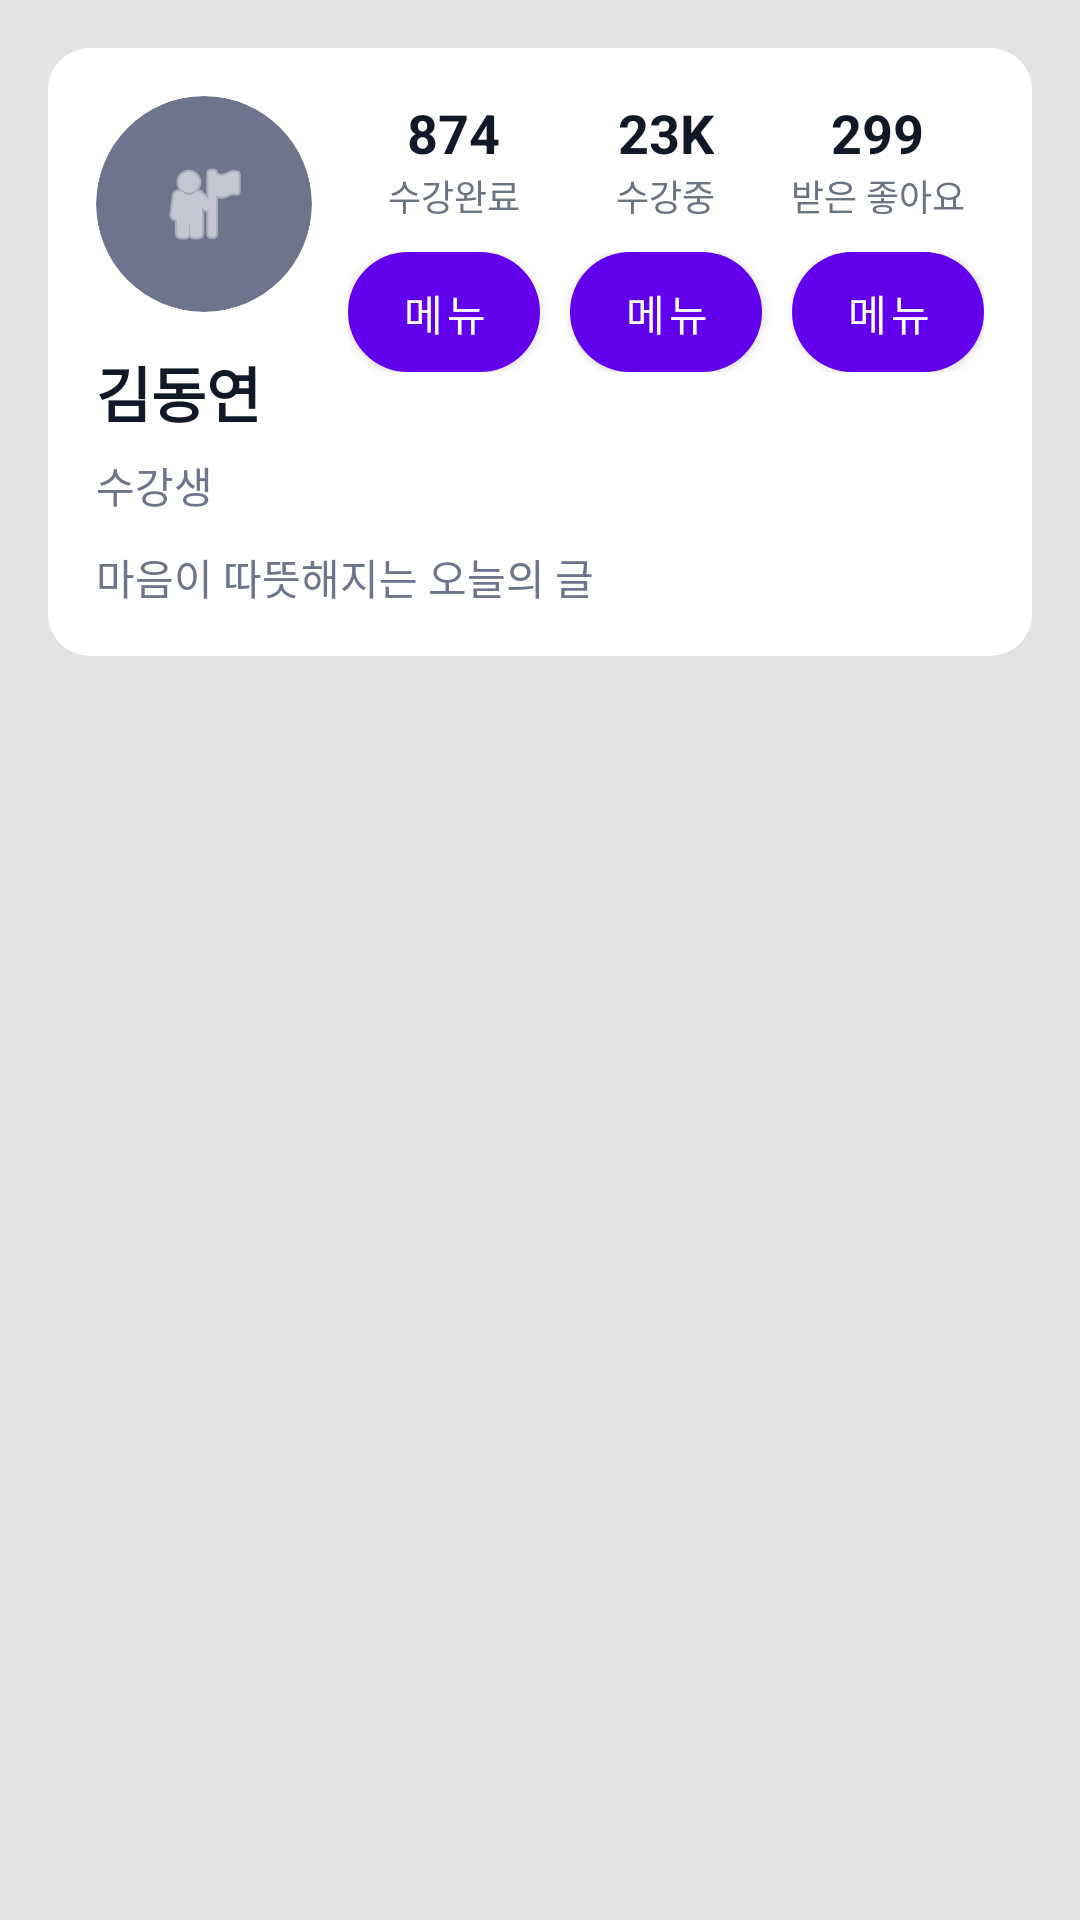

Named icons in this screenshot (1080*1920) and their bounding boxes, bbox(x1, y1, x2, y2):
avatar: bbox(96, 96, 312, 312)
